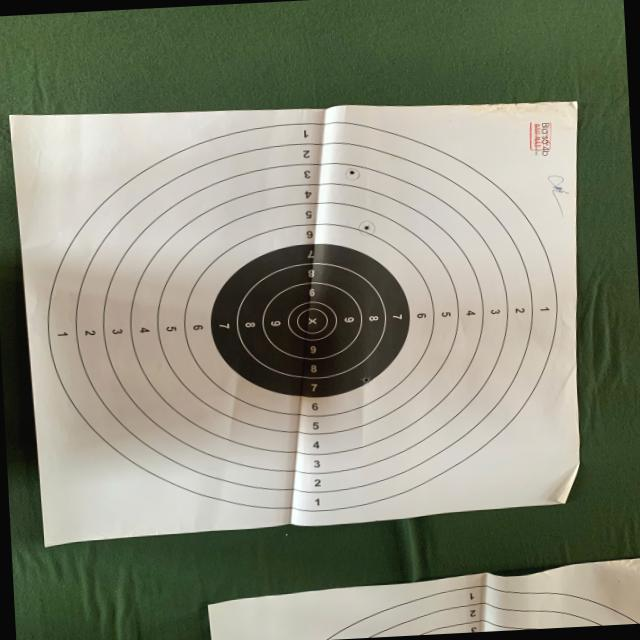bullet: (361, 378, 370, 384), (347, 170, 355, 175), (363, 225, 369, 231)
target: (12, 102, 579, 544)
